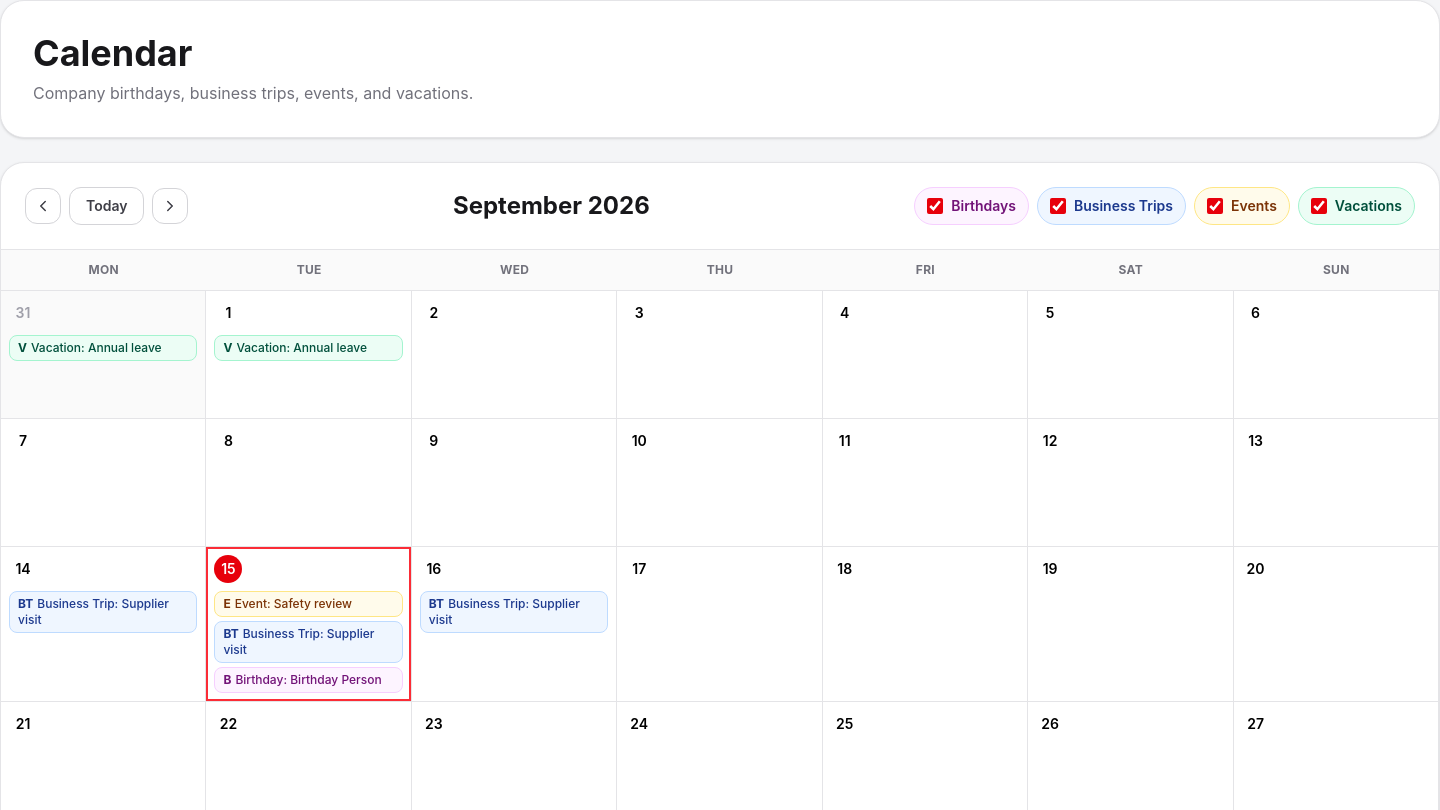
Test: CalendarPage › selects all filters by default and supports independent, multiple, and zero selections
Check: the checkbox labelled "Business Trips" is checked, box x1=1050 y1=198 x2=1066 y2=214
Check: the checkbox labelled "Events" is checked, box x1=1207 y1=198 x2=1223 y2=214
Click the checkbox labelled "Birthdays" at (935, 206), box x1=927 y1=198 x2=943 y2=214
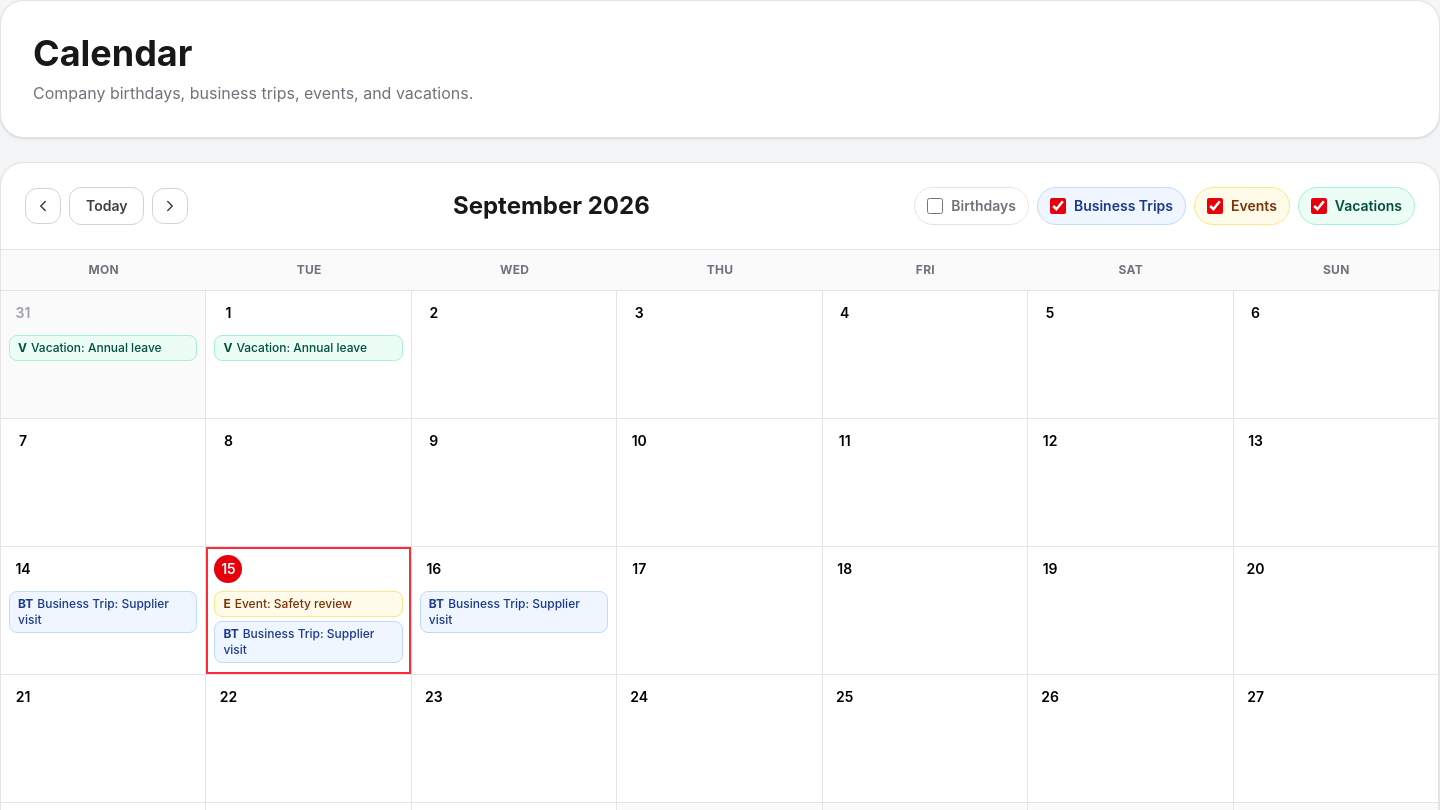
Check: the text "Event: Safety review" is shown, box x1=235 y1=596 x2=352 y2=611
Check: the button "Birthday: Birthday Person" is gone
Click the checkbox labelled "Business Trips" at (1058, 206), box x1=1050 y1=198 x2=1066 y2=214
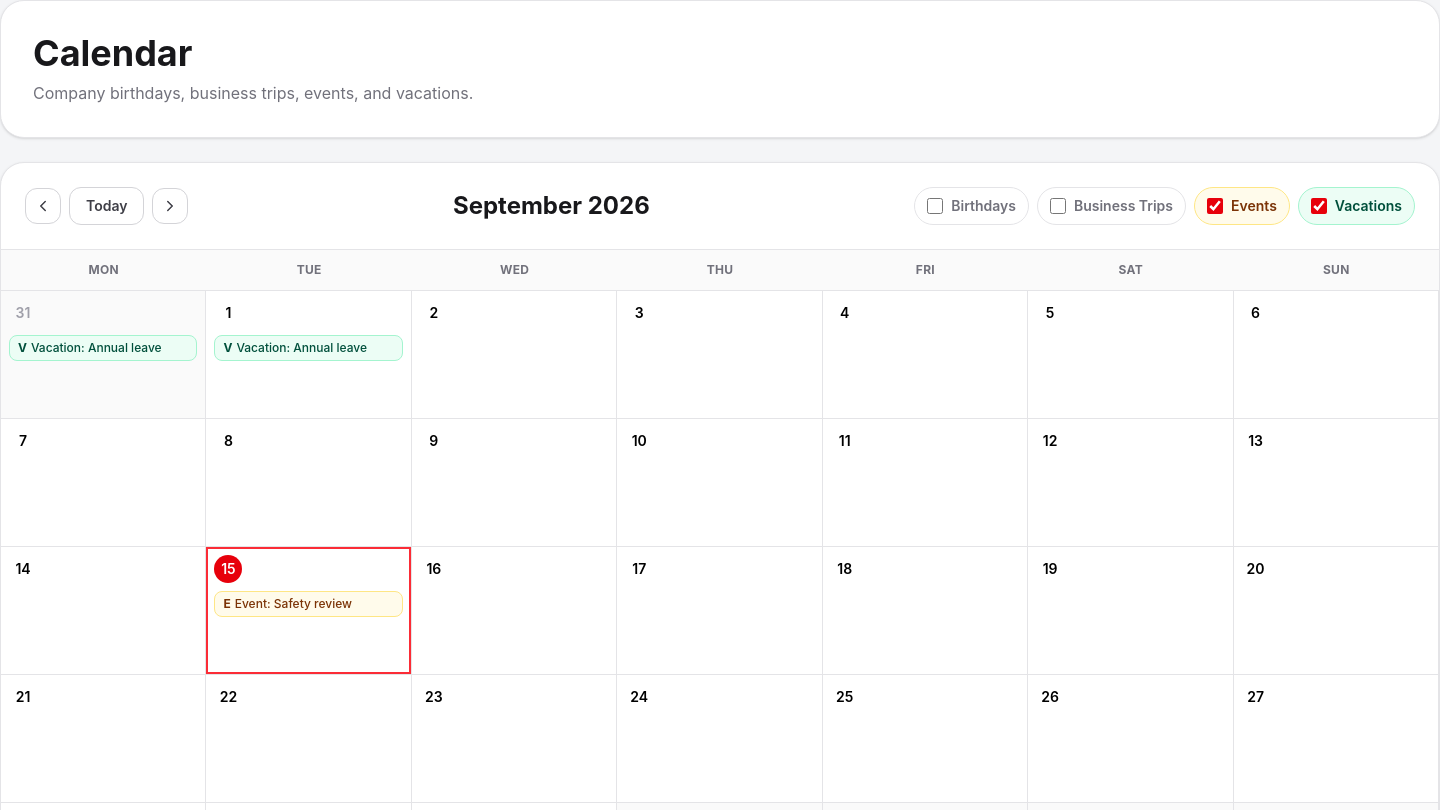
Check: the text "Event: Safety review" is shown, box x1=235 y1=596 x2=352 y2=611
Check: the button "Business Trip: Supplier visit" is gone
Click the checkbox labelled "Events" at (1215, 206), box x1=1207 y1=198 x2=1223 y2=214
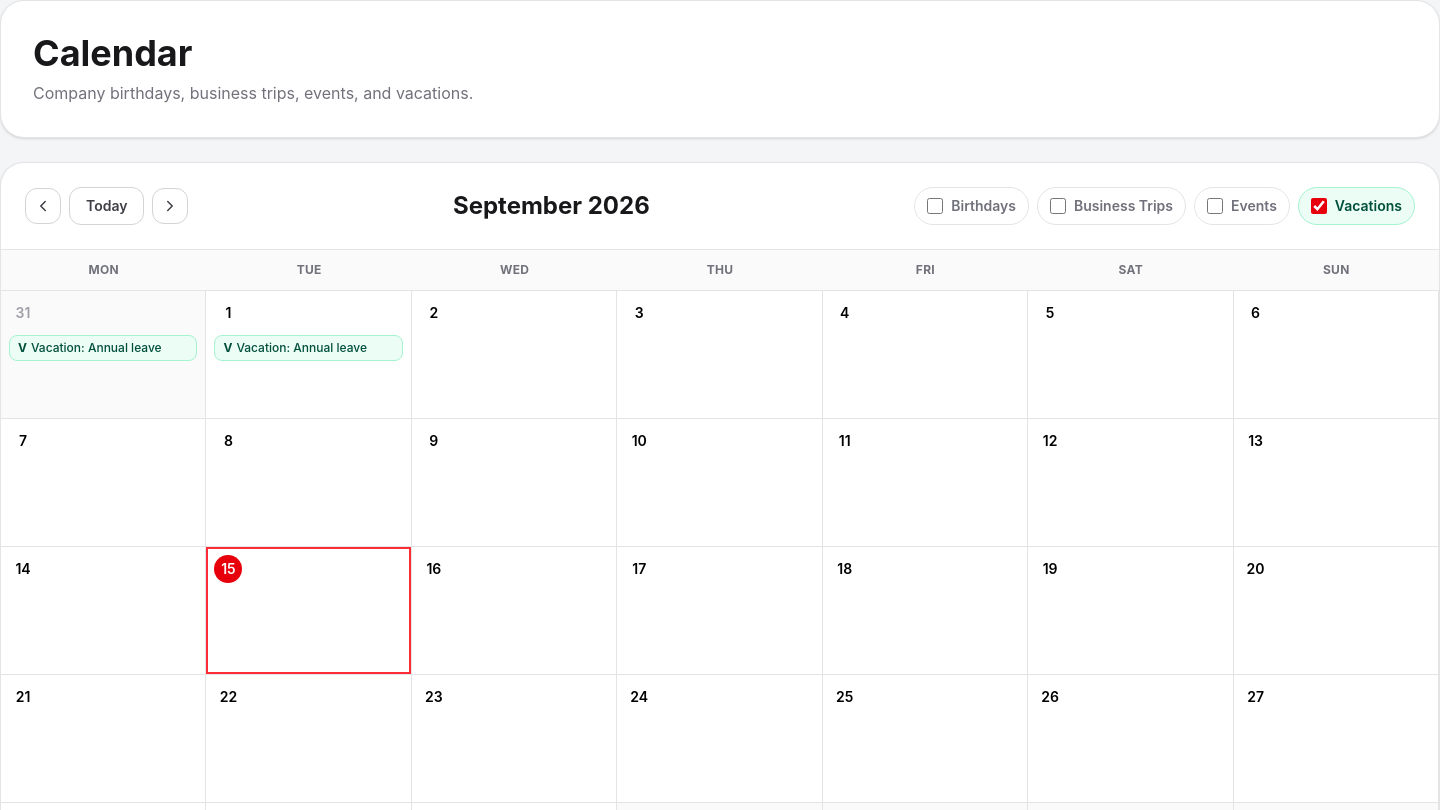
Click the checkbox labelled "Vacations" at (1319, 206), box x1=1311 y1=198 x2=1327 y2=214
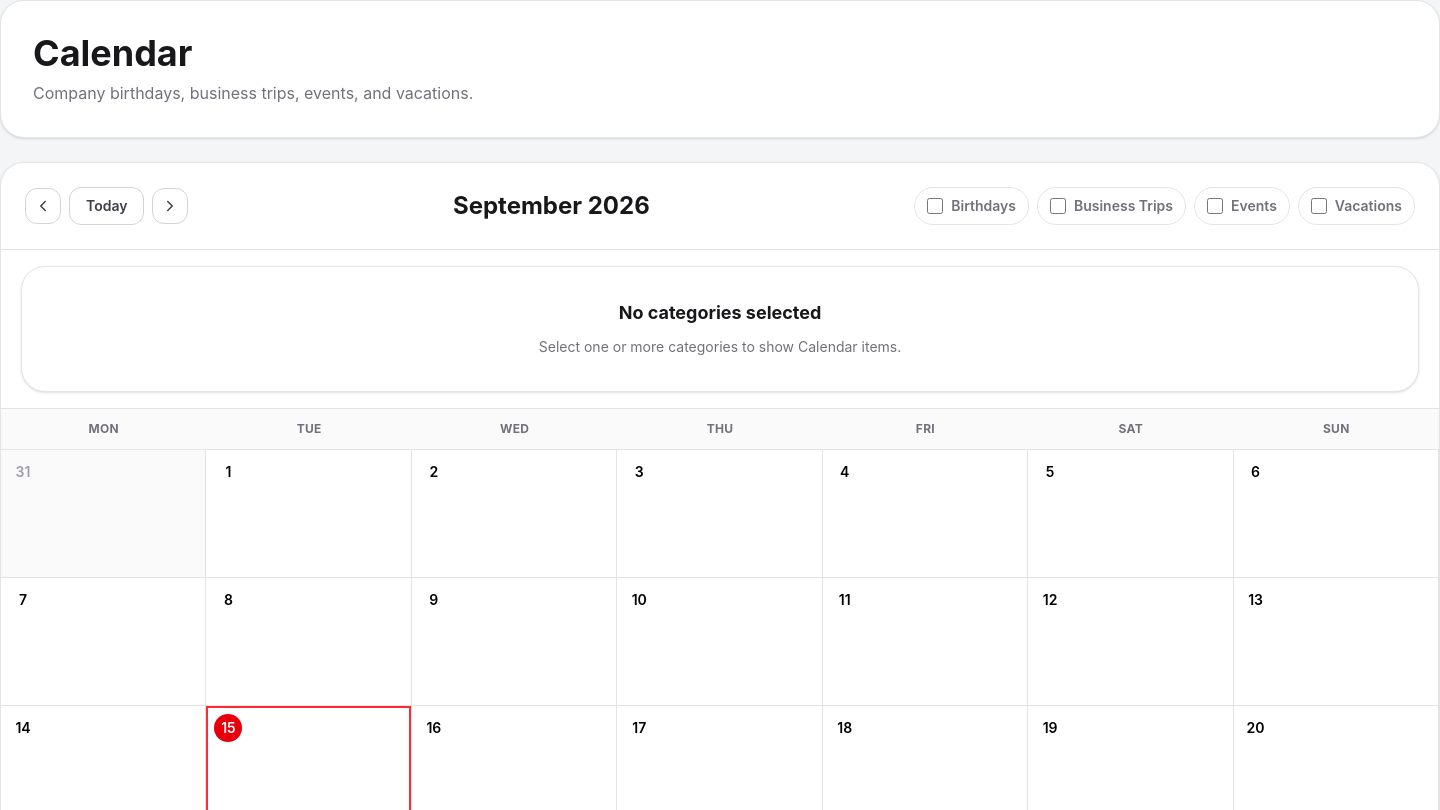
Check: the heading "No categories selected" is shown, box x1=619 y1=302 x2=821 y2=323
Check: the list is gone
